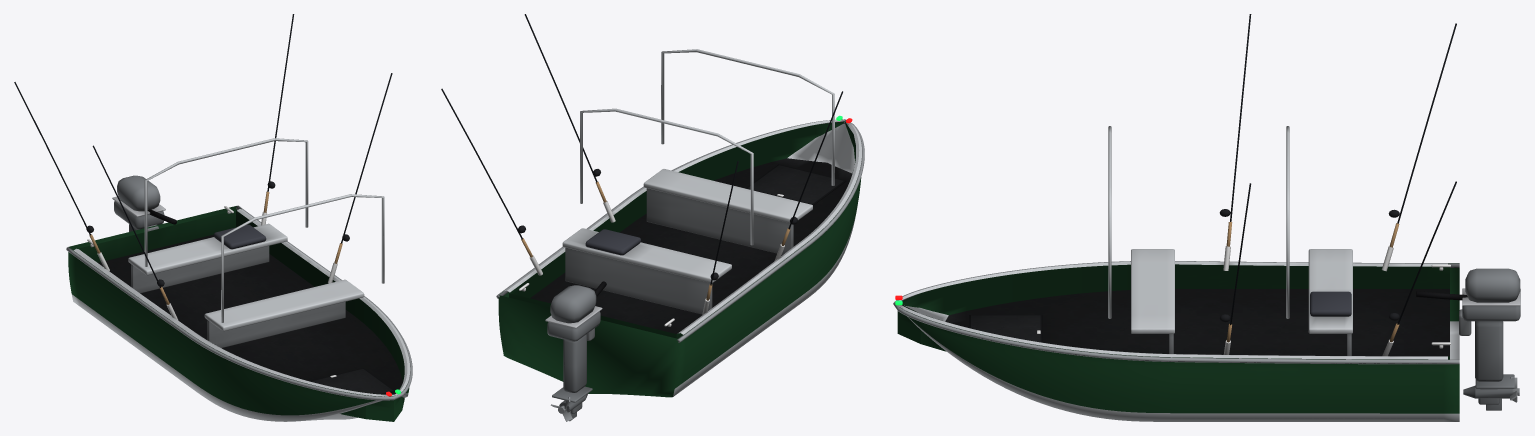
The model's file is boat-tiger.glb.
3 renders of one model, left to right at view 1: azimuth 30°, elevation 25°; view 2: azimuth 150°, elevation 25°; view 3: azimuth 270°, elevation 25°, orthographic. The views are drawn at different scales.
Visible parts, largest first — view 1: body; view 2: body; view 3: body.
Boxes of the visible parts, <box> form: body: <box>14,14,412,421</box>; body: <box>441,14,864,421</box>; body: <box>893,14,1520,421</box>.
Size of the model in its own units: 3.29 by 2.8 by 5.12.
Materials: 16 (2 with a texture image).
